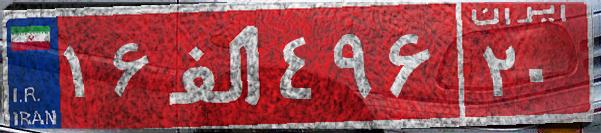0: (525, 38, 570, 115)
1: (57, 26, 110, 107)
2: (475, 38, 525, 113)
4: (273, 28, 330, 110)
6: (385, 28, 445, 110), (110, 28, 158, 105)
9: (330, 28, 385, 110)
الف: (158, 15, 273, 115)
